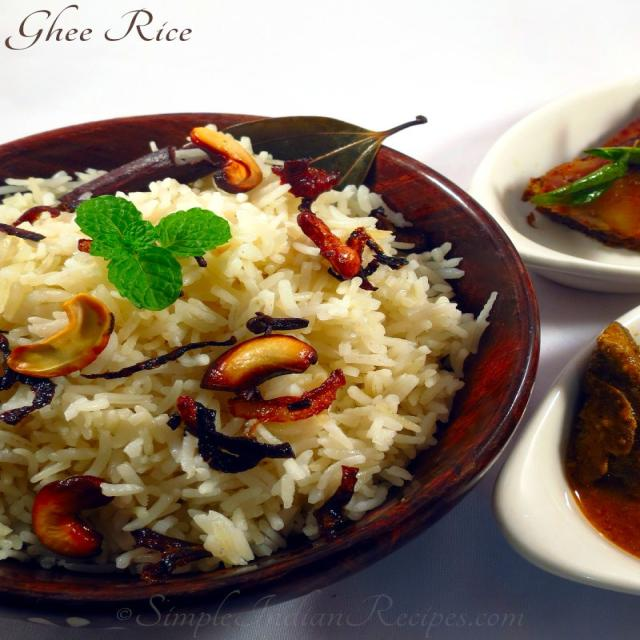nei satham: (0, 85, 441, 581)
